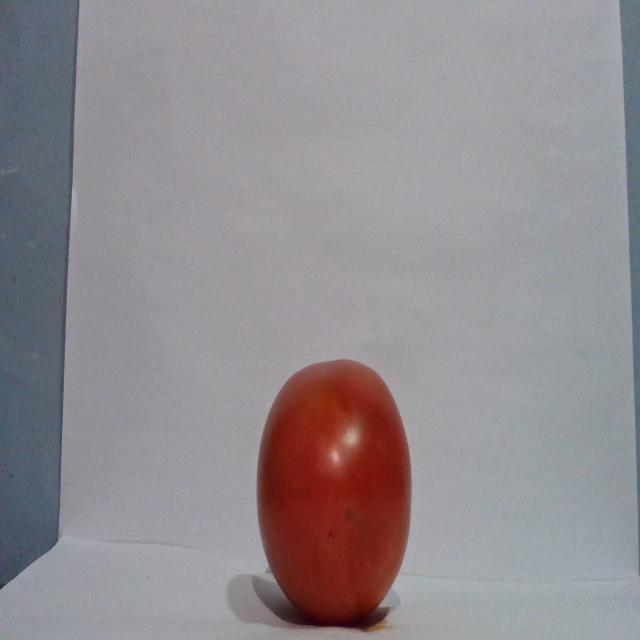Red: (254, 357, 413, 625)
